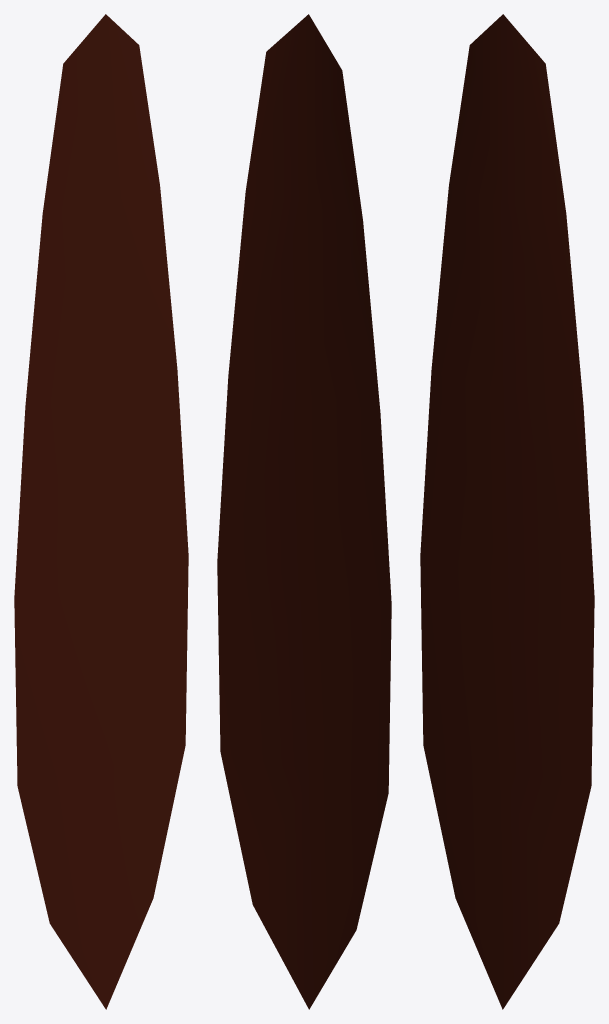
File: pheasant_feather_flight_secondary_004.obj
3 views of the same model, side by side, from view 1: azimuth 30°, elevation 25°; view 2: azimuth 150°, elevation 25°; view 3: azimuth 330°, elevation 25° (orthographic).
Parts seen in each view (by area): view 1: feather_flight_secondary_004; view 2: feather_flight_secondary_004; view 3: feather_flight_secondary_004.
Boxes of the visible parts, x1,y1,x2,y2 form: feather_flight_secondary_004: (14,14,188,1009); feather_flight_secondary_004: (217,14,391,1009); feather_flight_secondary_004: (420,14,594,1009).
Size of the model in its own units: 0.0141 by 0.0769 by 0.00069.
